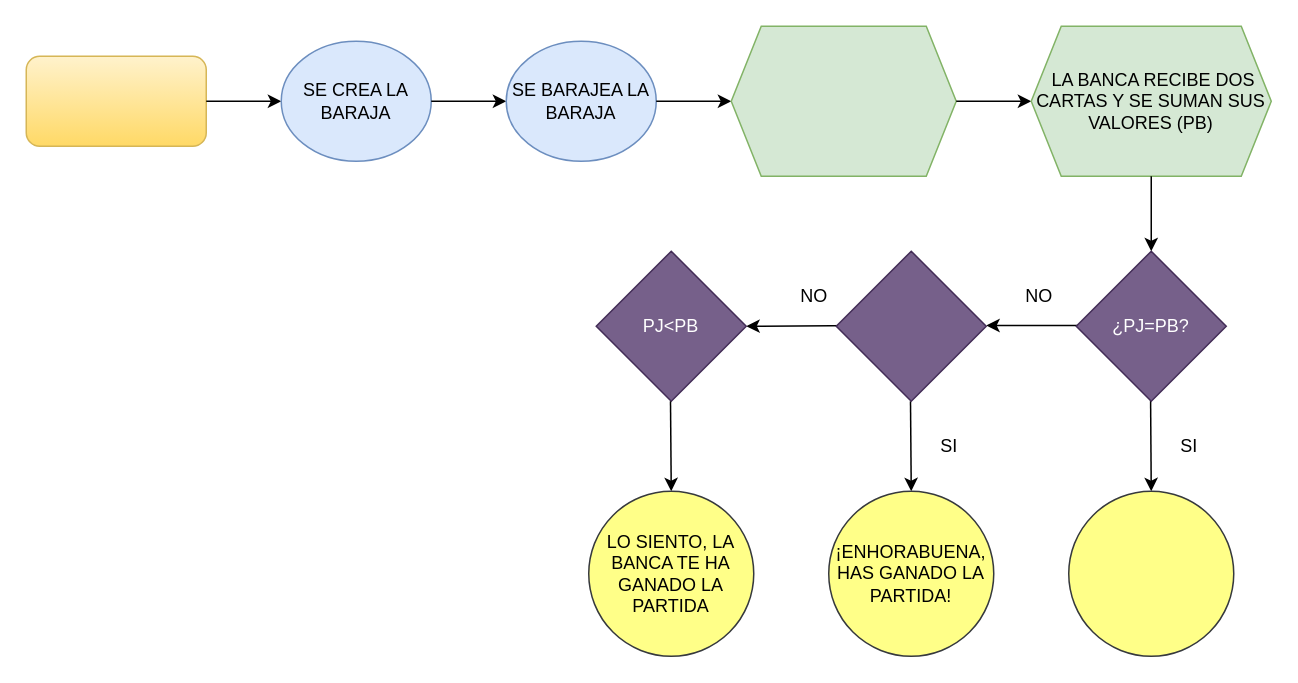
The diagram is 1298 pixels wide and 683 high, and some of its shapes have lost their labels. The centre of each missing label's shape, as x and y in pixels:
"EL JUGADOR RECIBE DOS CARTAS Y SE SUMAN SUS VALORES (PJ)" goes at point (843, 100).
"EMPIEZA EL PROGRAMA" goes at point (115, 100).
"LA PARTIDA HA ACABADO EN EMPATE" goes at point (1150, 573).
"¿PJ>PB?" goes at point (910, 325).
